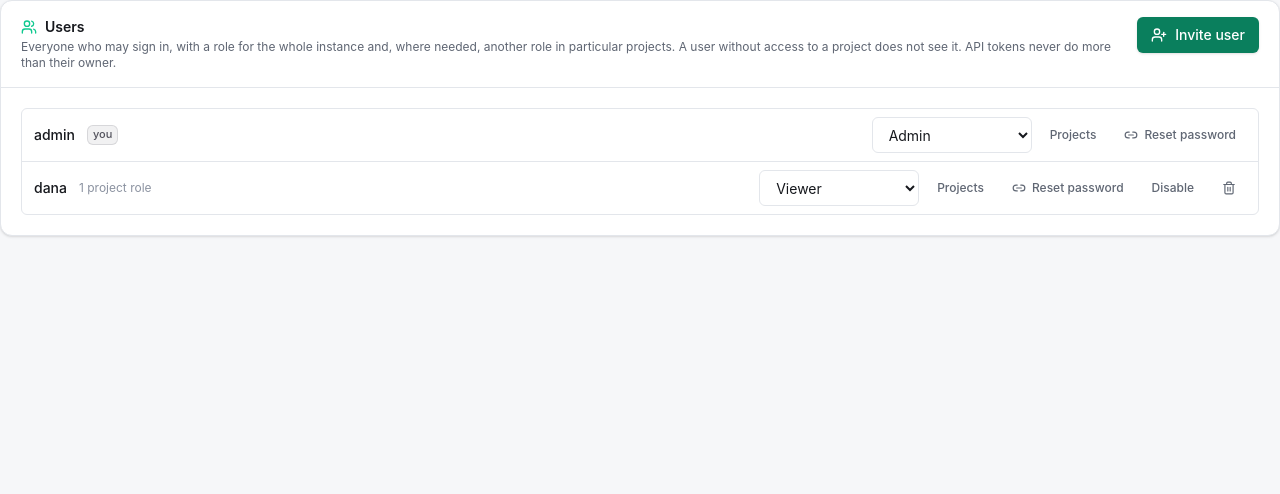
it: UsersCard › invites a user, shows the link once and changes roles
The image size is (1280, 494).
Expected: the text "1 project role" is shown, [79, 180, 152, 196]
Select "Developer" in the dropdown named "Role of dana" at coordinates (839, 188), box [759, 170, 919, 206]
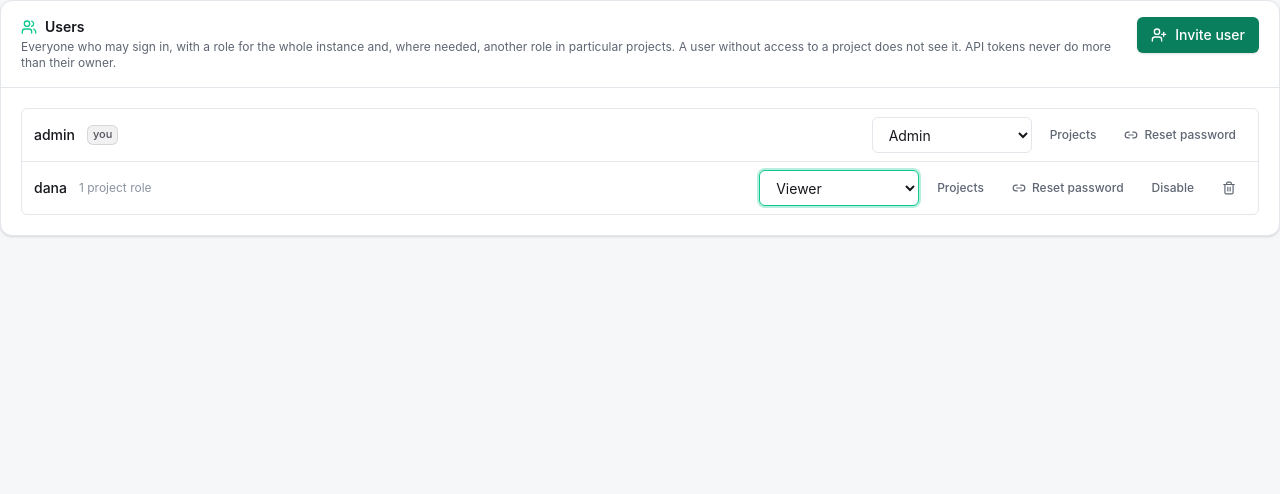
Click the button "Projects" in the row of "1 project role" at coordinates (961, 188), box [927, 172, 994, 204]
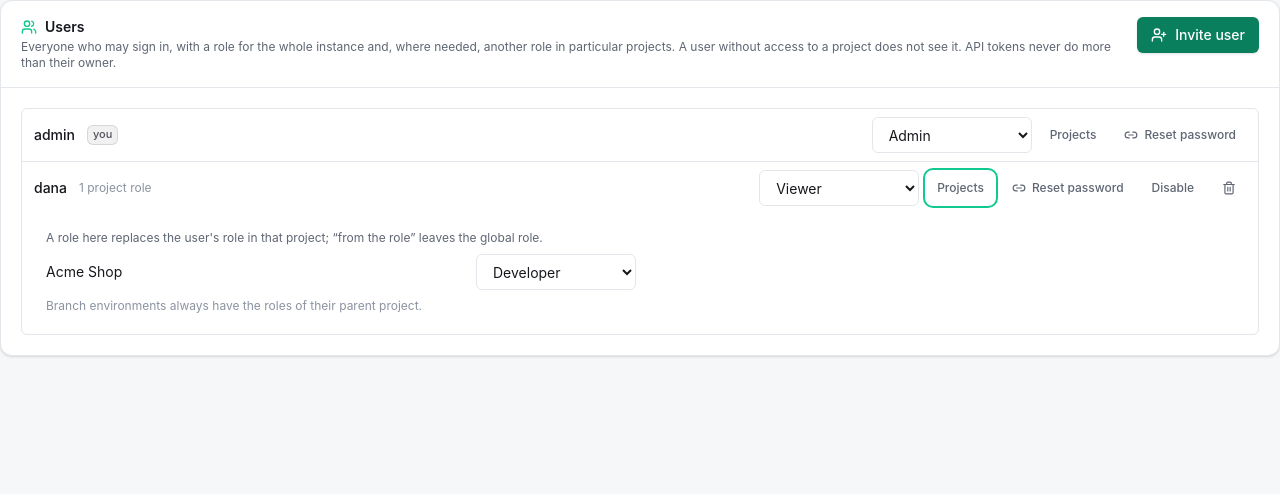
Select "from the role" in the dropdown named "Role of dana in Acme Shop" at coordinates (556, 272), box [476, 254, 636, 290]
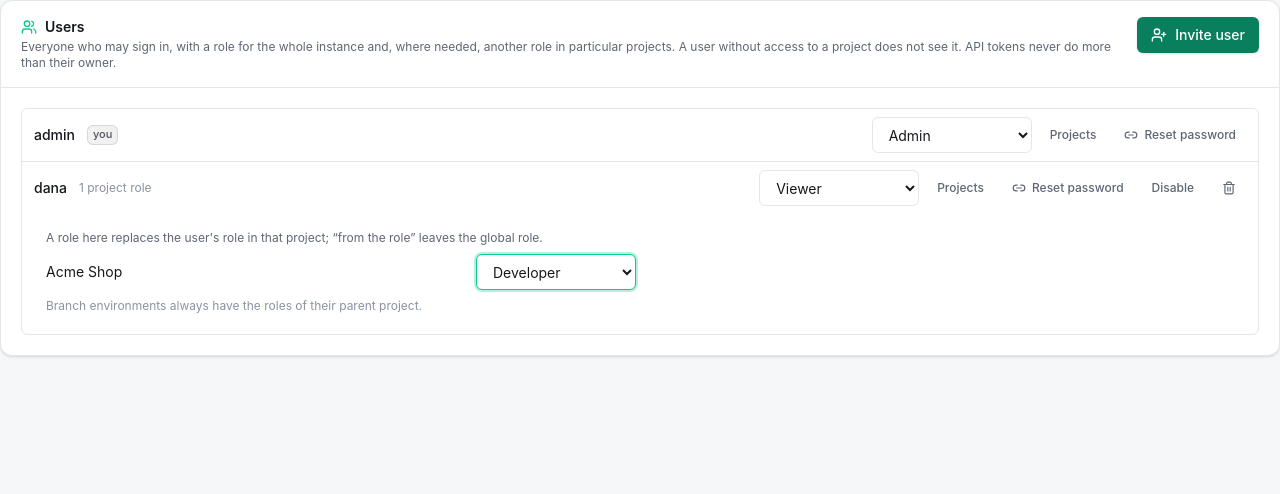
Click the button "Invite user" at coordinates (1198, 35), box [1137, 17, 1259, 53]
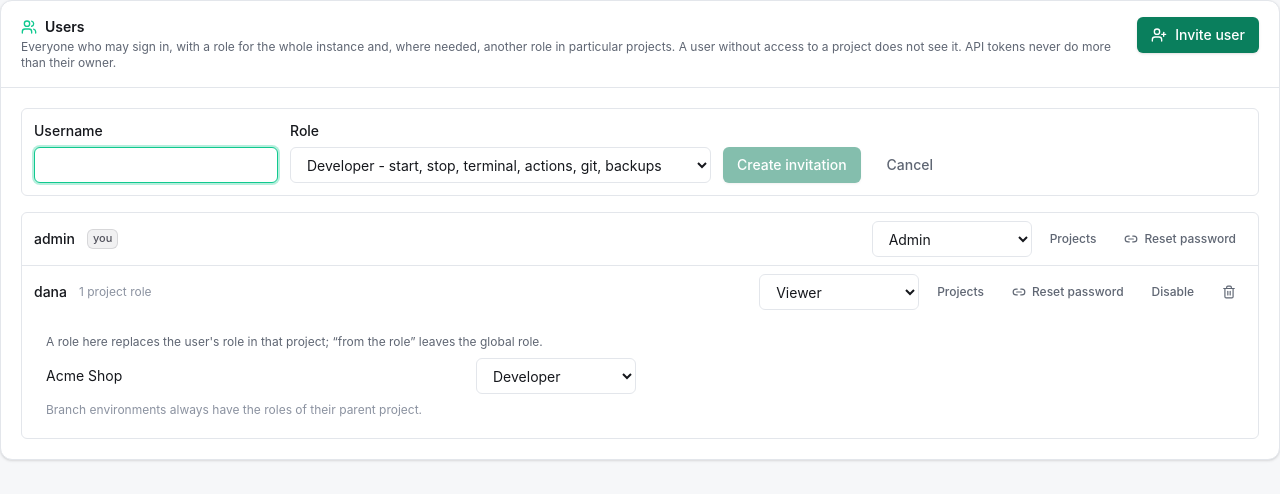
Type "eve" into the field labelled "Username" at coordinates (156, 165), box [34, 147, 278, 183]
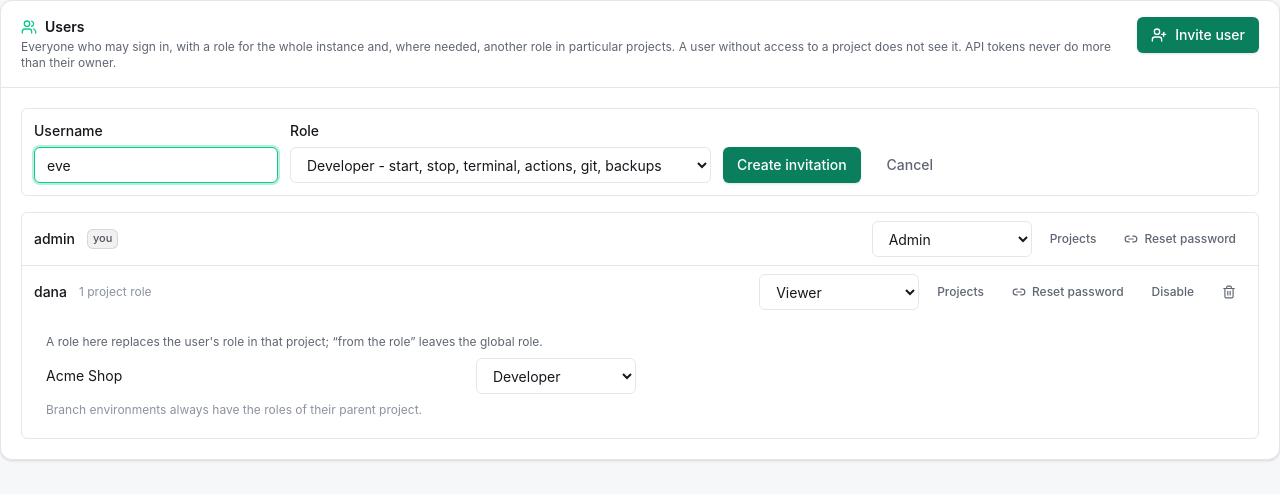
Click the button "Create invitation" at coordinates (792, 165), box [723, 147, 861, 183]
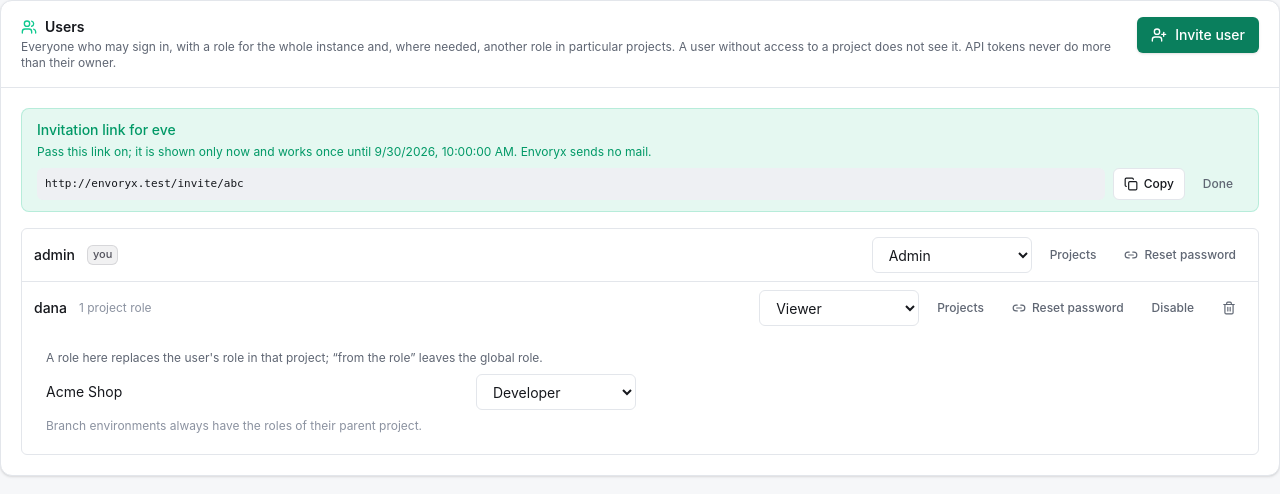
Now the text "http://envoryx.test/invite/abc" is shown, box [37, 168, 1105, 200]
